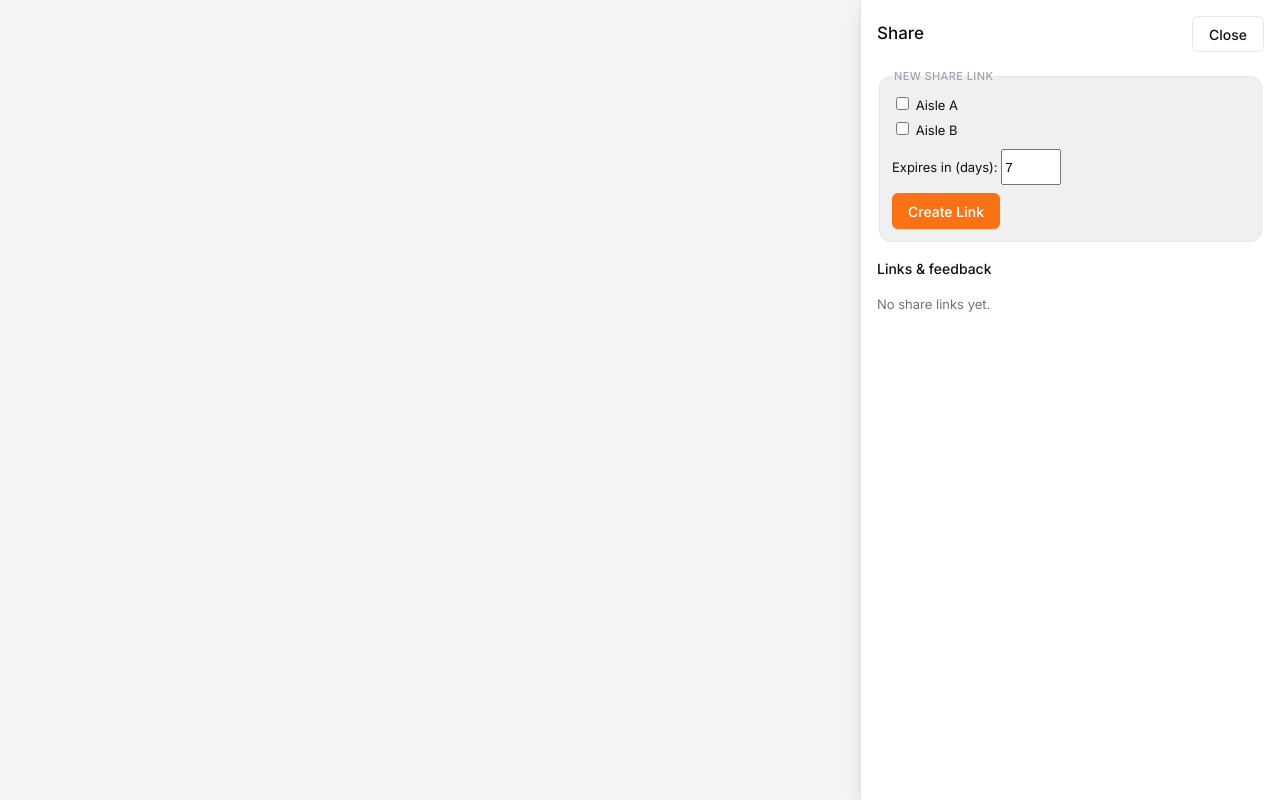
it: SharePanel — Spec §6.3a/§6.6b: share link creation/management + feedback viewer › creates a share link for the checked layouts and displays its URL
The width and height of the screenshot is (1280, 800).
Expected: the text "Aisle A" is shown, 896,97 -> 958,113
Step 1. Click the checkbox labelled "Aisle A" → x=902, y=103, box 896,97 -> 909,110
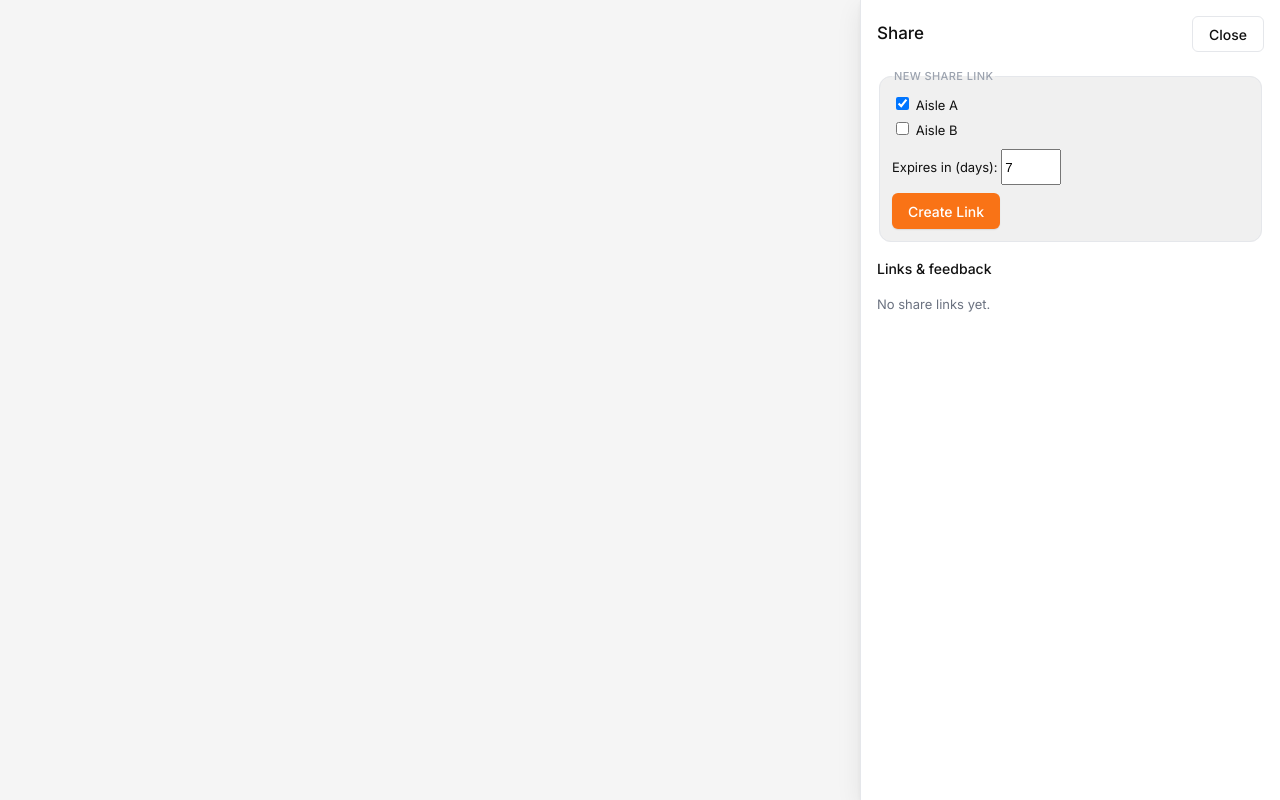
Step 2. Click the button "Create Link" → x=946, y=211, box 892,193 -> 1000,229
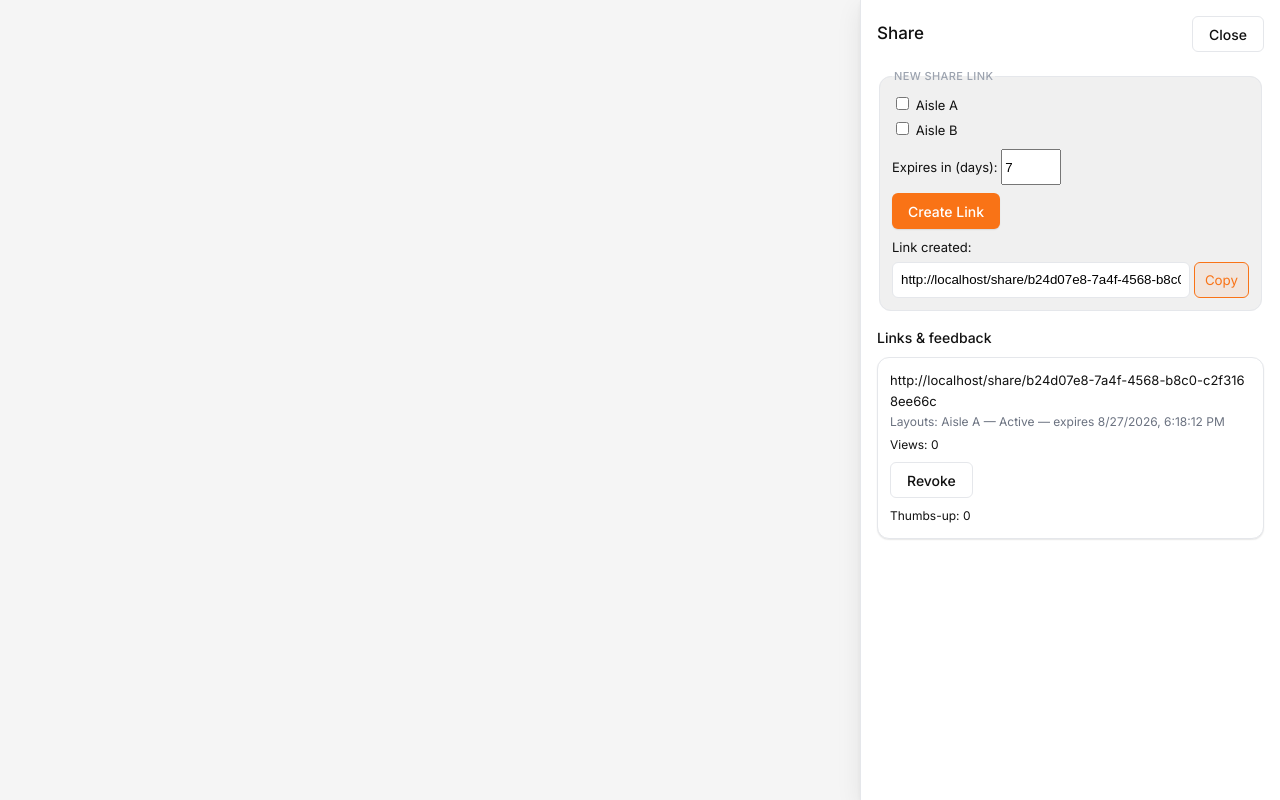
Now the field named "link created" is shown, box 892,262 -> 1190,298
